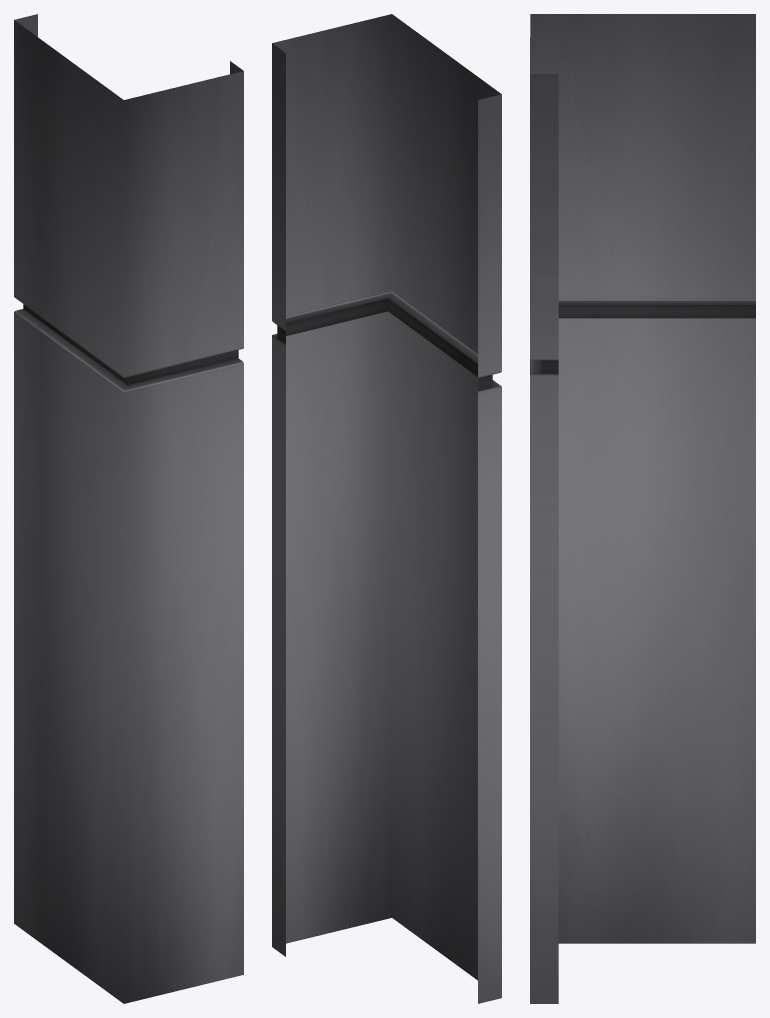
File: COR_LOT_HB.fbx
The picture shows the model from 3 angles, left to right: view 1: azimuth 30°, elevation 25°; view 2: azimuth 210°, elevation 25°; view 3: azimuth 270°, elevation 25°; orthographic projection. The views are drawn at different scales.
Visible parts, largest first — view 1: COR_LOT_HB; view 2: COR_LOT_HB; view 3: COR_LOT_HB.
Boxes of the visible parts, <box> form: COR_LOT_HB: <box>14,14,243,1003</box>; COR_LOT_HB: <box>272,14,501,1003</box>; COR_LOT_HB: <box>530,14,755,1003</box>.
Size of the model in its own units: 0.625 by 4.5 by 0.991.
